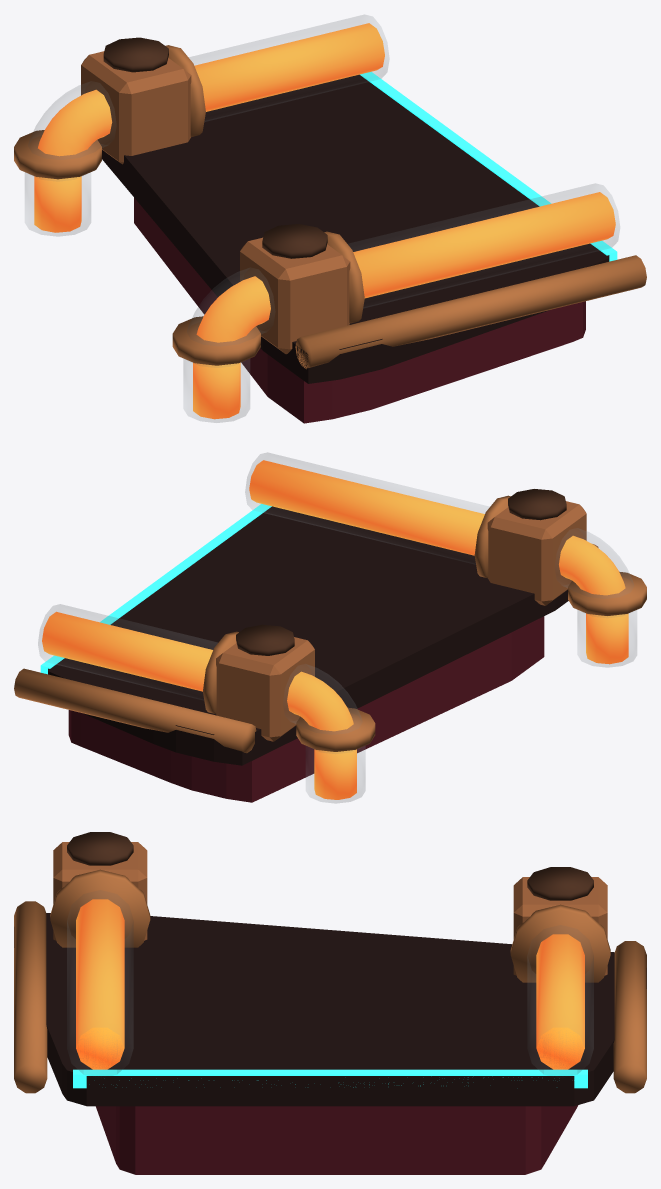
File: Pier_Angled_10.glb
3 renders of one model, top to bottom at view 1: azimuth 30°, elevation 25°; view 2: azimuth 150°, elevation 25°; view 3: azimuth 270°, elevation 25°, orthographic. The views are drawn at different scales.
Parts seen in each view (by area): view 1: CP_Pier_Angled_10; view 2: CP_Pier_Angled_10; view 3: CP_Pier_Angled_10.
Boxes of the visible parts, x1=… form: CP_Pier_Angled_10: x1=14, y1=15, x2=646, y2=423; CP_Pier_Angled_10: x1=14, y1=452, x2=646, y2=803; CP_Pier_Angled_10: x1=14, y1=832, x2=646, y2=1174.
Bounding box in the file's own units: 3.23 × 1.31 × 4.18.
